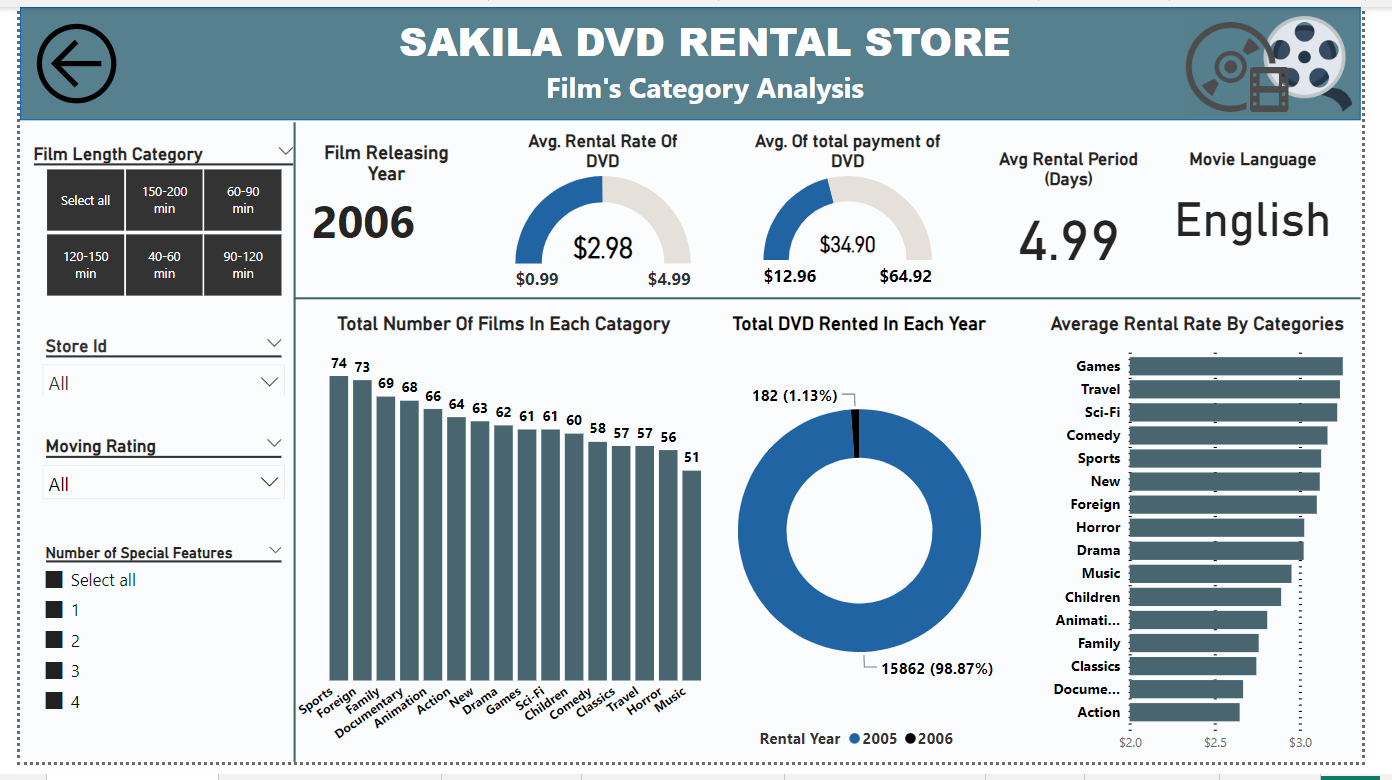

The dashboard page shown, as its layout file describes it:
{"tool":"powerbi","page":{"name":"film_category","canvas":[1280,720],"ordinal":1},"visuals":[{"type":"shape","box":[0,0,1279.5,108.1],"z":0},{"type":"image","box":[1177.7,0,101.7,108.1],"z":1000},{"type":"image","box":[1106.2,3.2,109.7,108.1],"z":2000},{"type":"textbox","box":[249.5,0,809,135.1],"z":3000},{"type":"multiRowCard","title":"Film Releasing Year","fields":{"Values":["sakila film.release_year"]},"box":[273.4,128.7,152.6,138.3],"z":4000},{"type":"card","title":"Movie Language","fields":{"Values":["Min(sakila language.name)"]},"box":[1073.5,134.6,205.9,105.4],"z":5000},{"type":"clusteredColumnChart","title":"Total Number Of Films In Each Catagory","fields":{"Category":["sakila category.name"],"Y":["CountNonNull(sakila film.film_id)"]},"box":[259.1,292.5,405.3,427.5],"z":6000},{"type":"clusteredBarChart","title":"Average Rental Rate By Categories","fields":{"Category":["sakila category.name"],"Y":["Avg(sakila film.rental_rate)"]},"box":[967.9,292.5,311.5,427.5],"z":7000},{"type":"card","title":"Avg Rental Period (Days)","fields":{"Values":["Avg(sakila film.rental_duration)"]},"box":[913.9,135.1,174.8,124],"z":8000},{"type":"gauge","title":"Avg. Rental Rate Of DVD","fields":{"Y":["Avg(sakila film.rental_rate)"],"MinValue":["Min(sakila film.rental_rate)1"],"MaxValue":["Max(sakila film.rental_rate)2"]},"box":[462.5,117.6,187.5,163.7],"z":9000},{"type":"gauge","title":"Avg. Of total payment of DVD","fields":{"Y":["Avg(sakila film.total payment)"],"MinValue":["Min(sakila film.total payment)1"],"MaxValue":["Max(sakila film.total payment)2"]},"box":[678.7,117.6,222.5,160.5],"z":10000},{"type":"donutChart","title":"Total DVD Rented In Each Year","fields":{"Category":["sakila rental.rental_date.Variation.Date Hierarchy.Year","sakila rental.rental_date.Variation.Date Hierarchy.Quarter","sakila rental.rental_date.Variation.Date Hierarchy.Month","sakila rental.rental_date.Variation.Date Hierarchy.Day"],"Y":["CountNonNull(sakila rental.rental_id)"]},"box":[613.5,292.5,373.5,426],"z":11000},{"type":"shape","box":[262.3,247.9,1017.2,60.4],"z":12000},{"type":"actionButton","box":[0,0,109.7,108.1],"z":13000},{"type":"slicer","fields":{"Values":["sakila film.length catagory"]},"box":[0,123.1,273.4,157.5],"z":14000},{"type":"slicer","fields":{"Values":["sakila film.rating_full"]},"box":[11.1,403.7,251.1,73.1],"z":15000},{"type":"slicer","fields":{"Values":["sakila film.special feature Count"]},"box":[11.1,507,251.1,182.8],"z":16000},{"type":"shape","box":[252.7,109.7,17.5,610.3],"z":17000},{"type":"slicer","fields":{"Values":["sakila store.store_id"]},"box":[11.1,308.3,251.1,63.6],"z":18000}]}

Visuals, with their boxes in screenshot pixels (x1, y1, x2, y2), scaled from the page's 1280x720 canvas onto the 1392x780 screenshot:
shape: bbox(0, 0, 1391, 117)
image: bbox(1281, 0, 1391, 117)
image: bbox(1203, 3, 1322, 121)
textbox: bbox(271, 0, 1151, 146)
"Film Releasing Year" multiRowCard: bbox(297, 139, 463, 289)
"Movie Language" card: bbox(1167, 146, 1391, 260)
"Total Number Of Films In Each Catagory" clusteredColumnChart: bbox(282, 317, 723, 779)
"Average Rental Rate By Categories" clusteredBarChart: bbox(1053, 317, 1391, 779)
"Avg Rental Period (Days)" card: bbox(994, 146, 1184, 281)
"Avg. Rental Rate Of DVD" gauge: bbox(503, 127, 707, 305)
"Avg. Of total payment of DVD" gauge: bbox(738, 127, 980, 301)
"Total DVD Rented In Each Year" donutChart: bbox(667, 317, 1073, 778)
shape: bbox(285, 269, 1391, 334)
actionButton: bbox(0, 0, 119, 117)
slicer - sakila film.length catagory: bbox(0, 133, 297, 304)
slicer - sakila film.rating_full: bbox(12, 437, 285, 517)
slicer - sakila film.special feature Count: bbox(12, 549, 285, 747)
shape: bbox(275, 119, 294, 779)
slicer - sakila store.store_id: bbox(12, 334, 285, 403)
